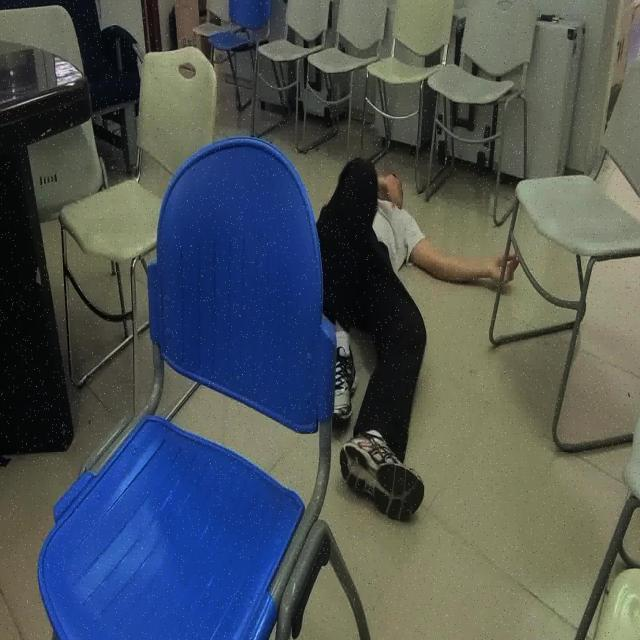fall: (302, 162, 521, 524)
